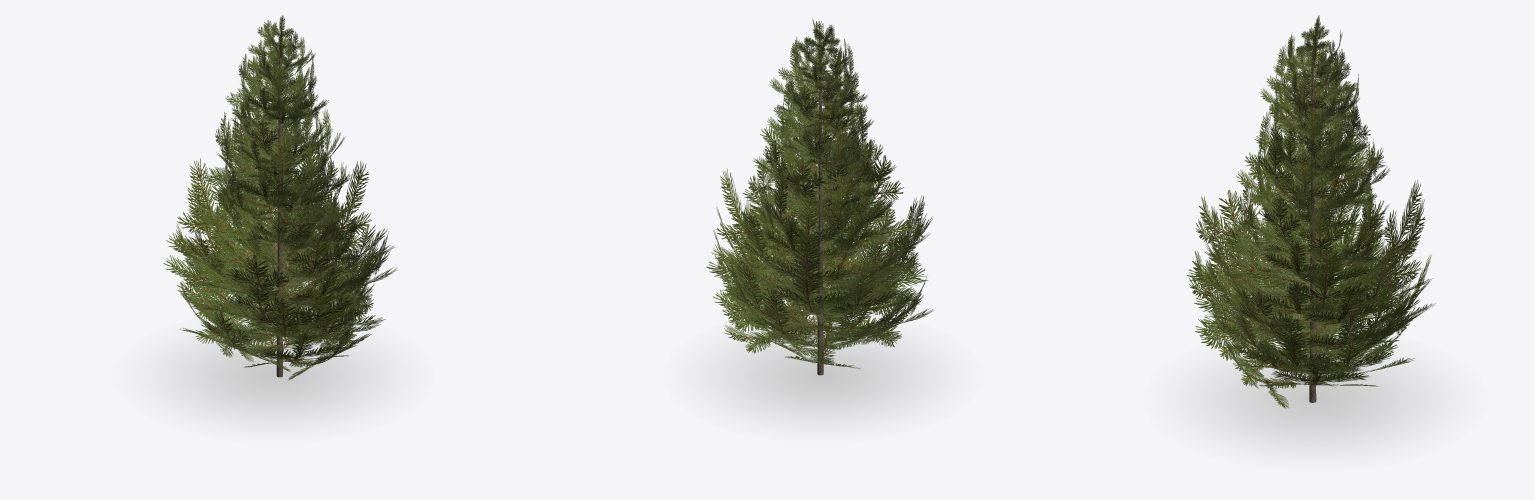
3 renders of one model, left to right at view 1: azimuth 30°, elevation 25°; view 2: azimuth 150°, elevation 25°; view 3: azimuth 270°, elevation 25°, orthographic. The views are drawn at different scales.
Size of the model in its own units: 1000 by 1038 by 1000.
3 materials, 3 textured.
